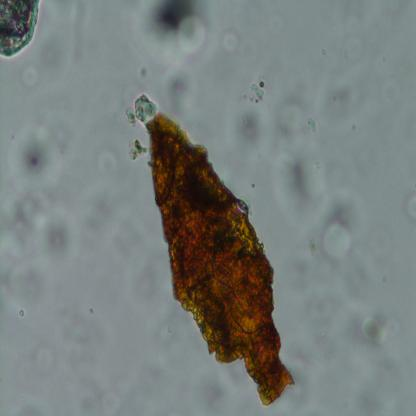Background material: (0, 195, 81, 302), (42, 277, 112, 387), (283, 292, 370, 363), (129, 0, 217, 61), (346, 349, 414, 416), (325, 187, 362, 273), (13, 124, 58, 186), (0, 0, 44, 62), (272, 80, 314, 134), (285, 152, 316, 218), (325, 68, 358, 127), (66, 0, 97, 58), (22, 336, 59, 379), (164, 66, 197, 114), (217, 22, 254, 60), (238, 104, 266, 152), (362, 314, 399, 346), (129, 90, 159, 127), (16, 57, 48, 88), (99, 142, 122, 180), (95, 388, 126, 413), (397, 188, 416, 223), (250, 74, 265, 105), (139, 62, 151, 86)
Fragment: (146, 110, 301, 404)
